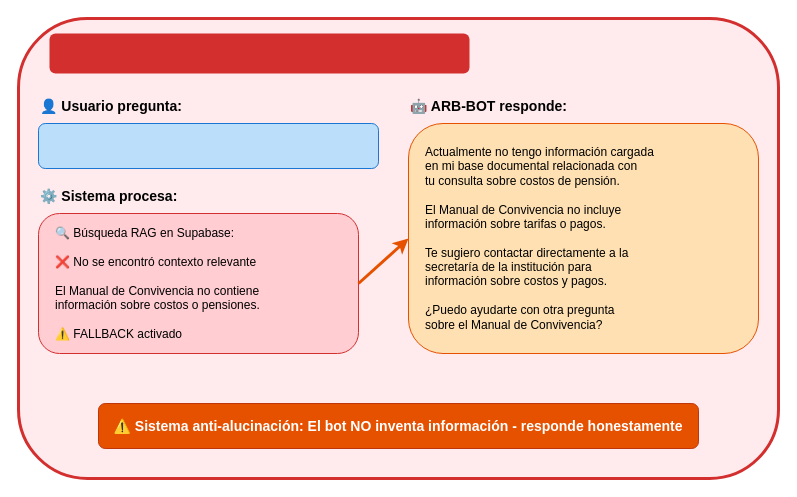
Image size: 797x497. Some labels were removed from this diagram. The shapes that lost their labels are listed below. From the top down, each one's centre as x and y in pixels, then its label:
[259,53]: ❌ EJEMPLO 2: Sin Información Disponible
[208,145]: "¿Cuánto cuesta la pensión mensual?"
